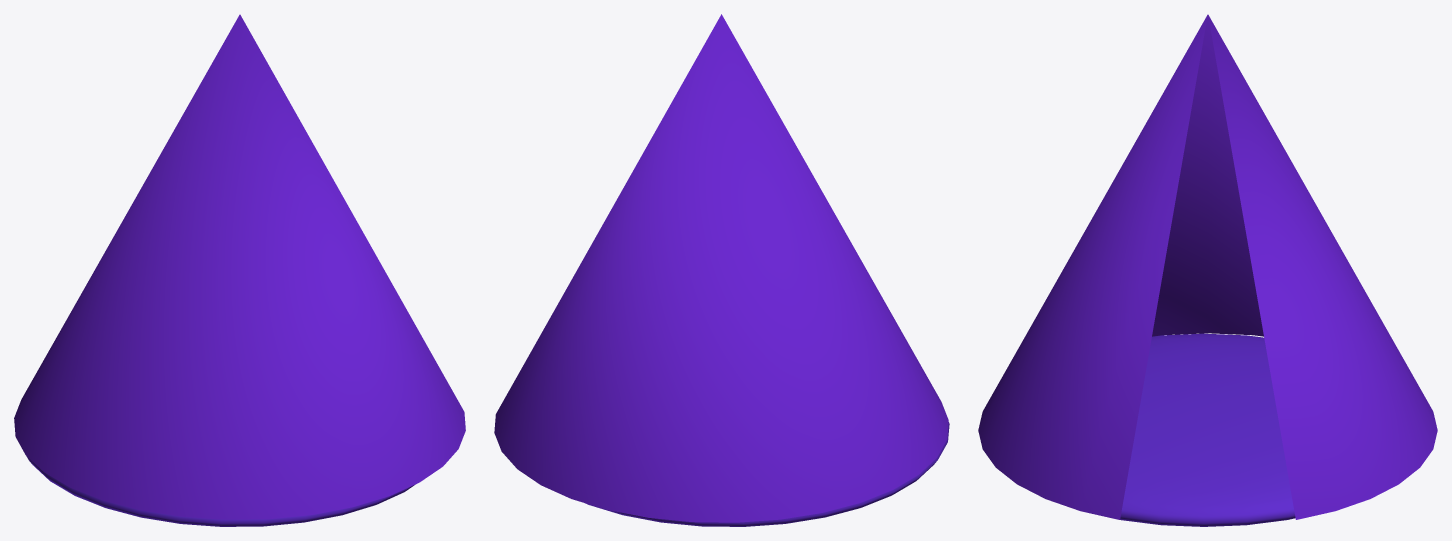
File: tent.obj
The picture shows the model from 3 angles, left to right: view 1: azimuth 30°, elevation 25°; view 2: azimuth 150°, elevation 25°; view 3: azimuth 270°, elevation 25°; orthographic projection.
Parts seen in each view (by area): view 1: Cone, Sphere; view 2: Cone, Sphere; view 3: Cone, Sphere.
Part boxes in pixels (x1,y1,x2,y2): Cone: [14, 14, 465, 519]; Sphere: [26, 456, 415, 526]; Cone: [494, 14, 948, 522]; Sphere: [585, 422, 949, 526]; Cone: [978, 14, 1437, 519]; Sphere: [1120, 333, 1295, 526].
Bounding box in the file's own units: 14.54 × 16.25 × 15.12.
